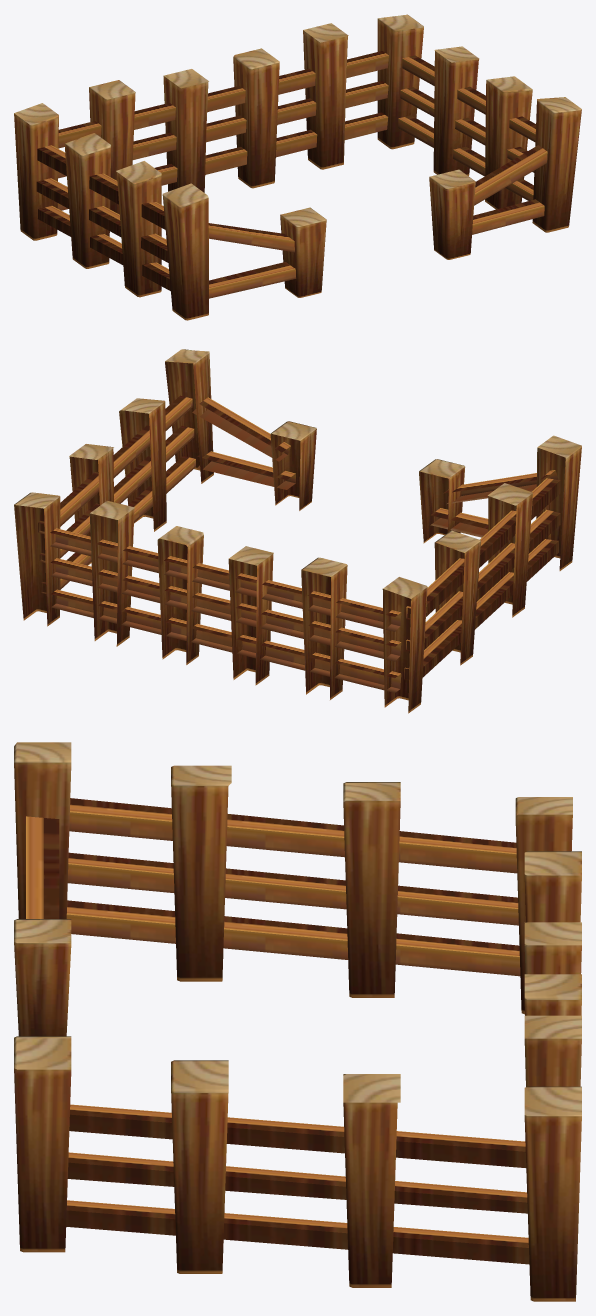
File: fobj_fence.dae
3 views of the same model, one above another, from view 1: azimuth 30°, elevation 25°; view 2: azimuth 150°, elevation 25°; view 3: azimuth 270°, elevation 25° (orthographic). The views are drawn at different scales.
Visible parts, largest first — view 1: vsn_mesh_0_; view 2: vsn_mesh_0_; view 3: vsn_mesh_0_.
Boxes of the visible parts, x1,y1,x2,y2 form: vsn_mesh_0_: [14, 14, 581, 320]; vsn_mesh_0_: [14, 349, 581, 713]; vsn_mesh_0_: [14, 742, 581, 1301].
Bounding box in the file's own units: 131 × 49.65 × 97.23.
1 material, 1 textured.
